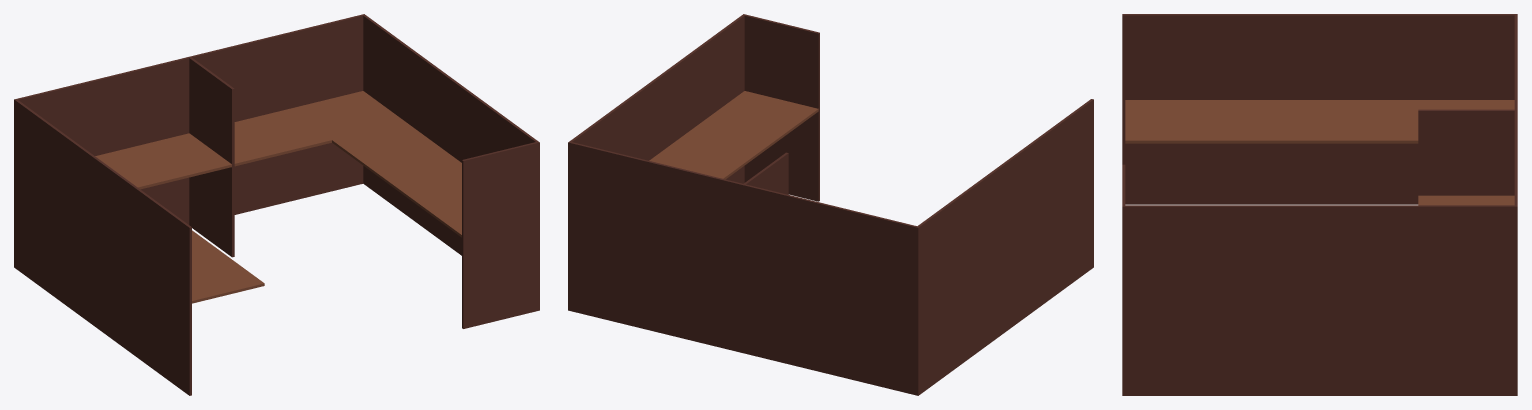
The model's file is Cubicals.glb.
The picture shows the model from 3 angles, left to right: view 1: azimuth 30°, elevation 25°; view 2: azimuth 150°, elevation 25°; view 3: azimuth 270°, elevation 25°; orthographic projection. The views are drawn at different scales.
Parts seen in each view (by area): view 1: Cube (×11); view 2: Cube (×8); view 3: Cube (×9).
Boxes of the visible parts, x1=… form: Cube (×11): x1=14, y1=14, x2=539, y2=395; Cube (×8): x1=568, y1=14, x2=1093, y2=395; Cube (×9): x1=1122, y1=14, x2=1517, y2=395.
Bounding box in the file's own units: 2.84 × 1.3 × 2.47.
